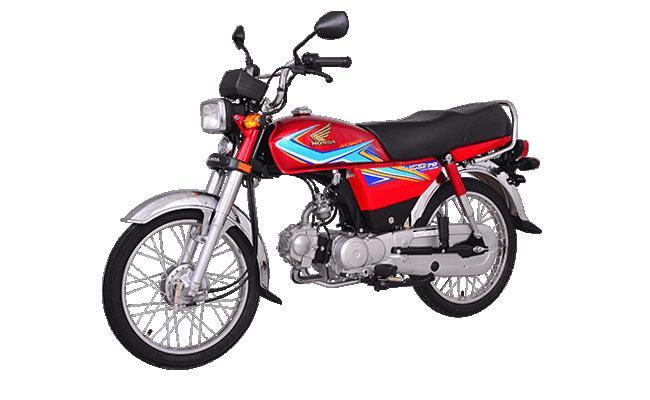bike: (97, 11, 546, 378)
